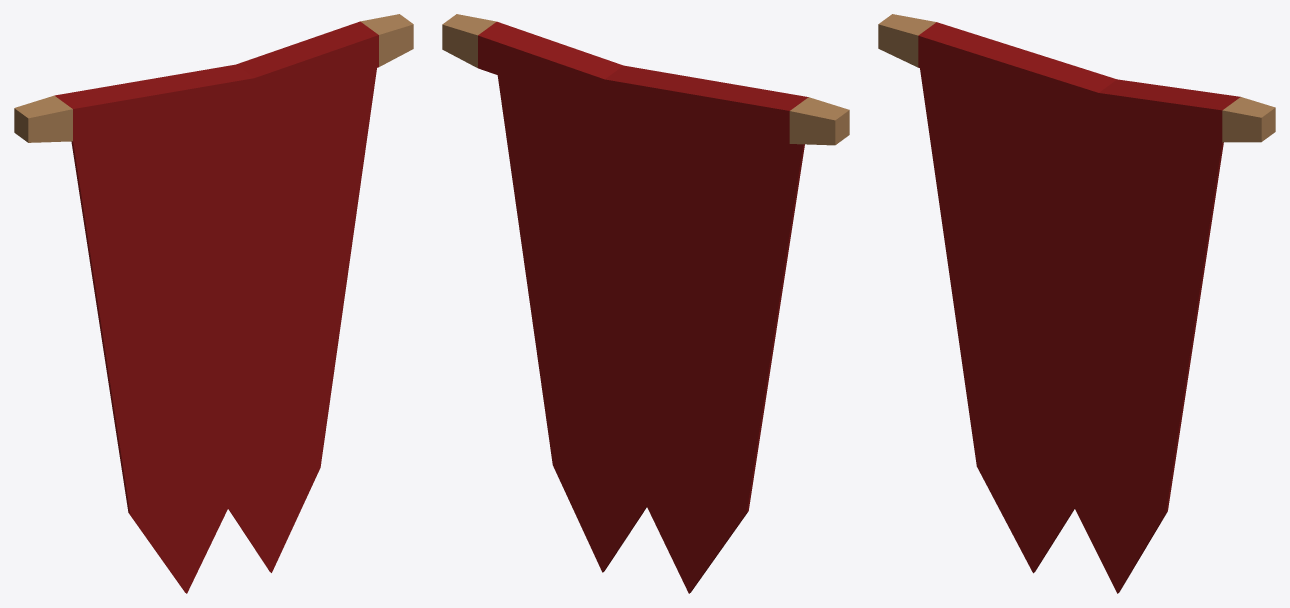
Rendered from banner_red.fbx.
The picture shows the model from 3 angles, left to right: view 1: azimuth 30°, elevation 25°; view 2: azimuth 150°, elevation 25°; view 3: azimuth 330°, elevation 25°; orthographic projection. The views are drawn at different scales.
Parts seen in each view (by area): view 1: banner_red; view 2: banner_red; view 3: banner_red.
Boxes of the visible parts, x1,y1,x2,y2 form: banner_red: (14, 14, 413, 593); banner_red: (442, 14, 849, 593); banner_red: (878, 14, 1275, 593).
Size of the model in its own units: 127 by 161 by 10.59.
